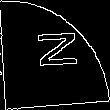N_W: (30, 33, 80, 77)
